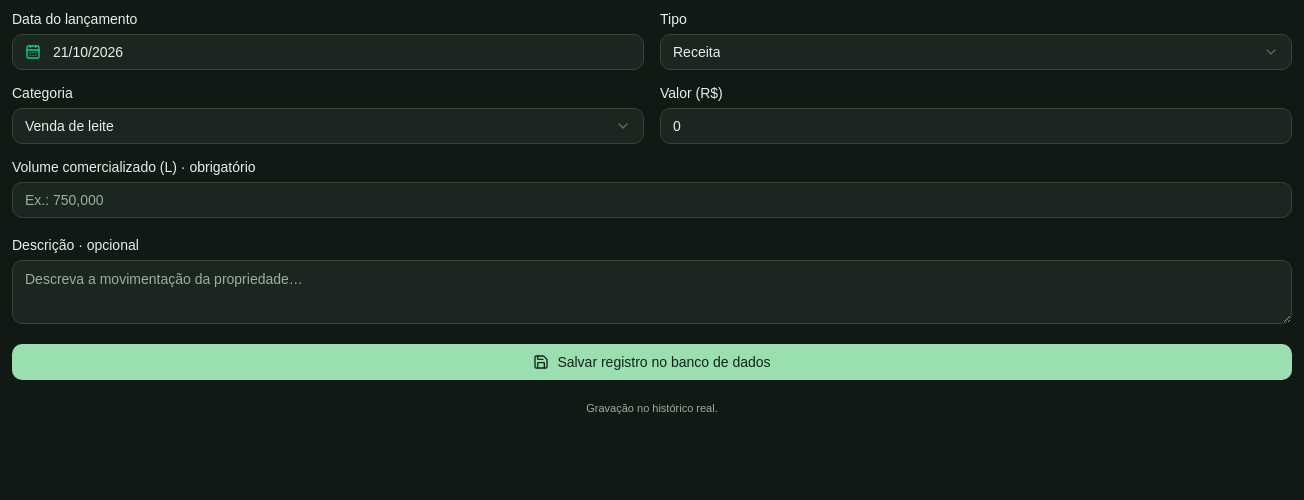
it: financial record form › preserves typed values when the server rejects a write
Replace the text in the number field labelled "Valor (R$)" with "1000". click: (976, 126)
box: [660,108,1292,144]
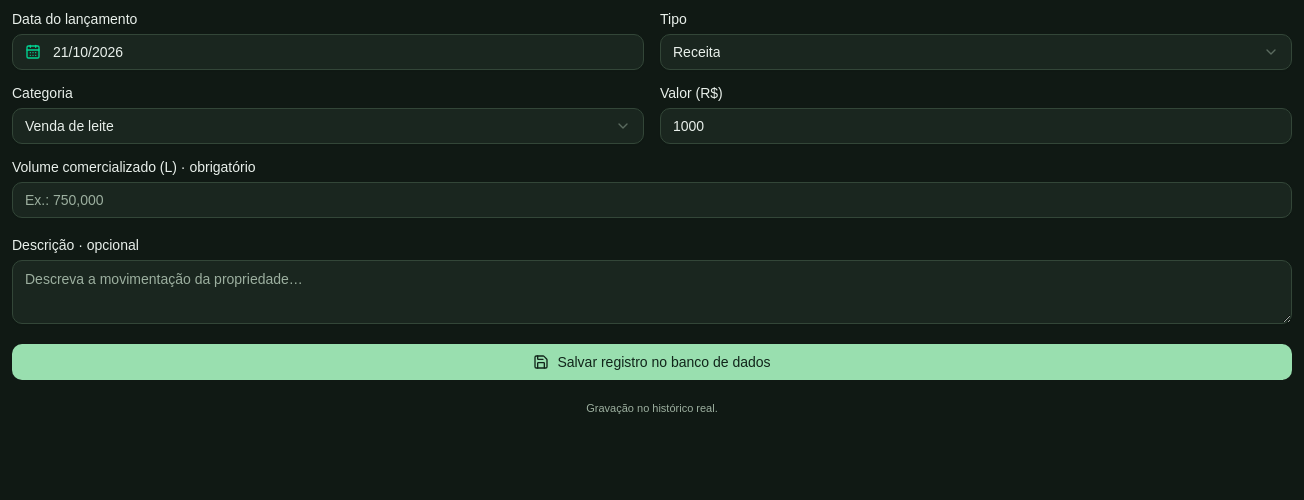
Type "400" into the number field labelled "Volume comercializado (L) · obrigatório". click: (652, 200)
box: [12,182,1292,218]
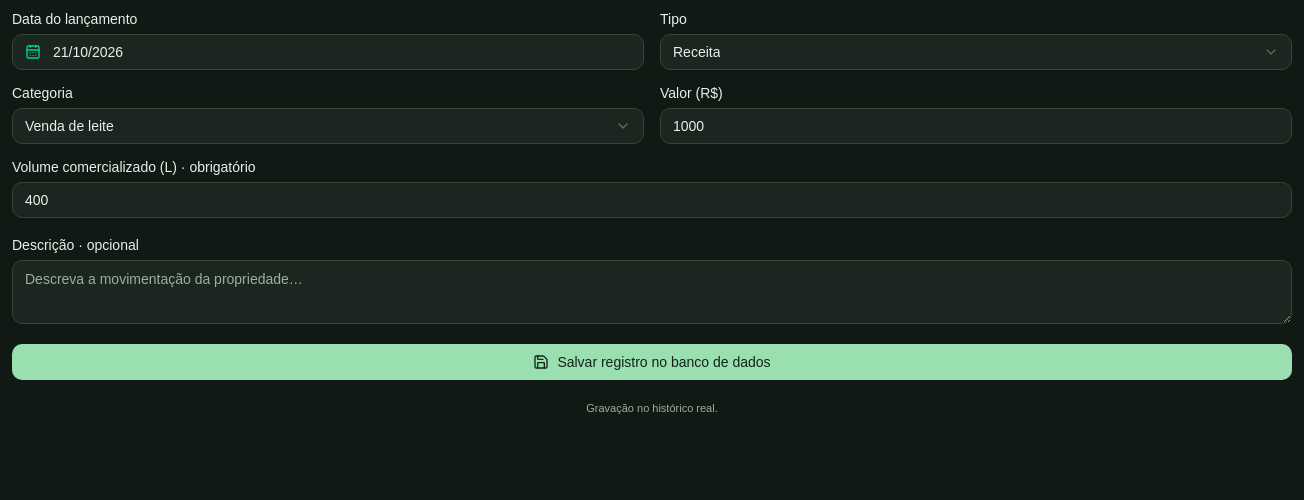
Click the button "Salvar registro no banco de dados". click: (652, 362)
box: [12,344,1292,380]
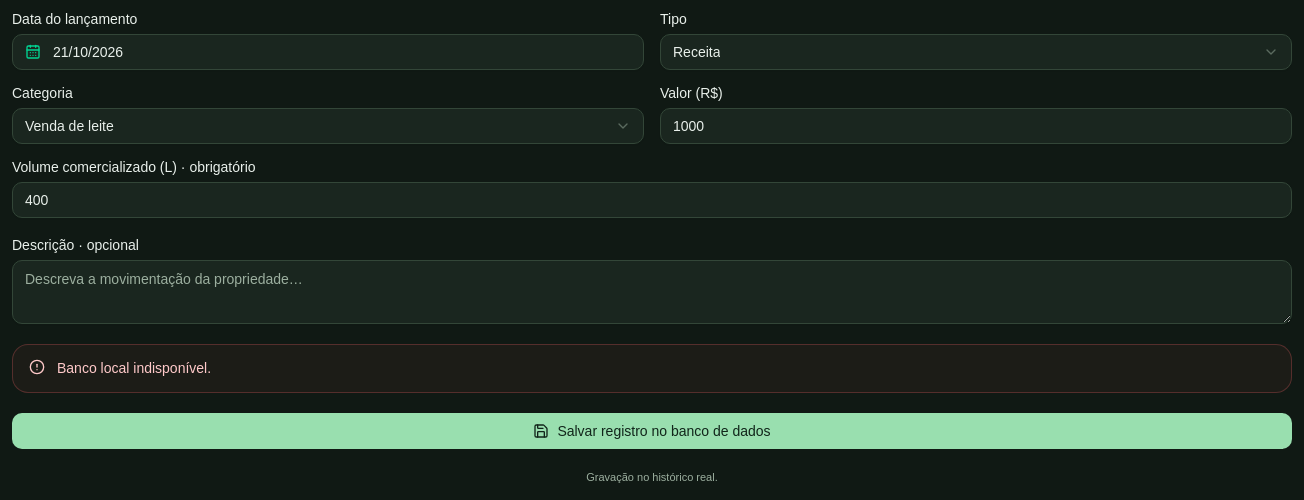
Check: the message reads "Banco local indisponível.", box [57,360,211,376]
